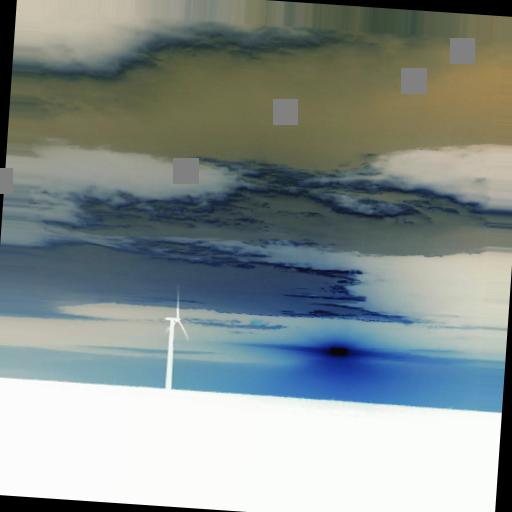wind turbine: (164, 284, 191, 391)
